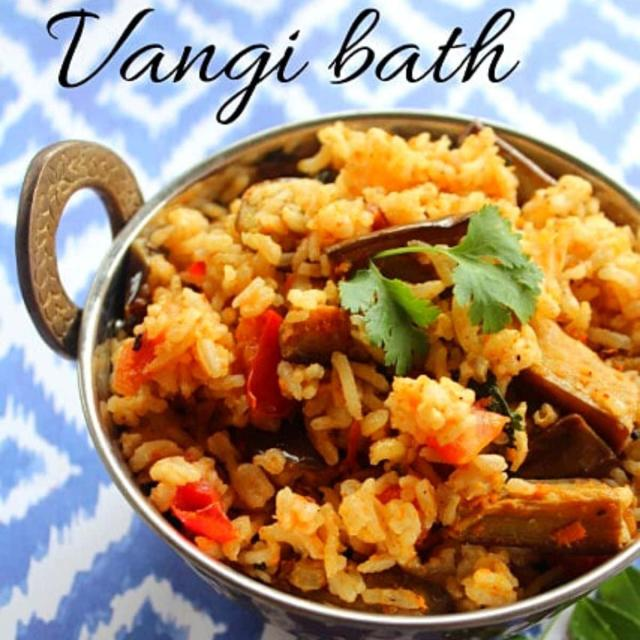vangi bath: (90, 106, 640, 628)
